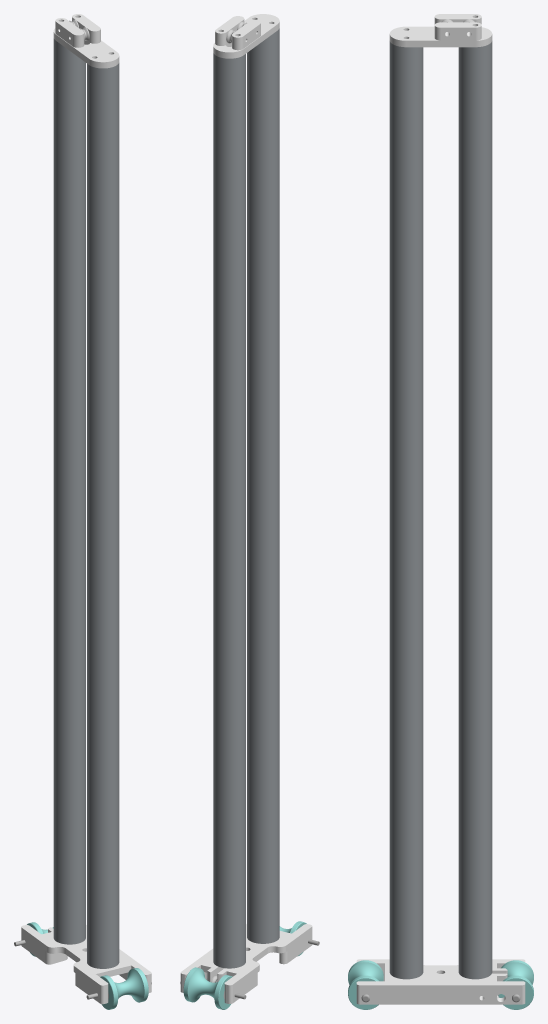
3 views of the same model, side by side, from view 1: azimuth 30°, elevation 25°; view 2: azimuth 150°, elevation 25°; view 3: azimuth 270°, elevation 25° (orthographic). The views are drawn at different scales.
Parts seen in each view (by area): view 1: Model_1; view 2: Model_1; view 3: Model_1.
Boxes of the visible parts, <box> form: Model_1: <box>14,14,151,1009</box>; Model_1: <box>180,14,319,1009</box>; Model_1: <box>348,14,533,1009</box>.
Size of the model in its own units: 0.0672 by 0.9686 by 0.1665.
